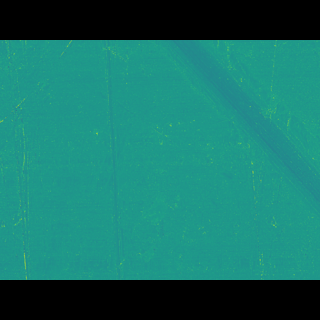Loch: (150, 70, 320, 207), (0, 223, 302, 249), (94, 68, 134, 250)
